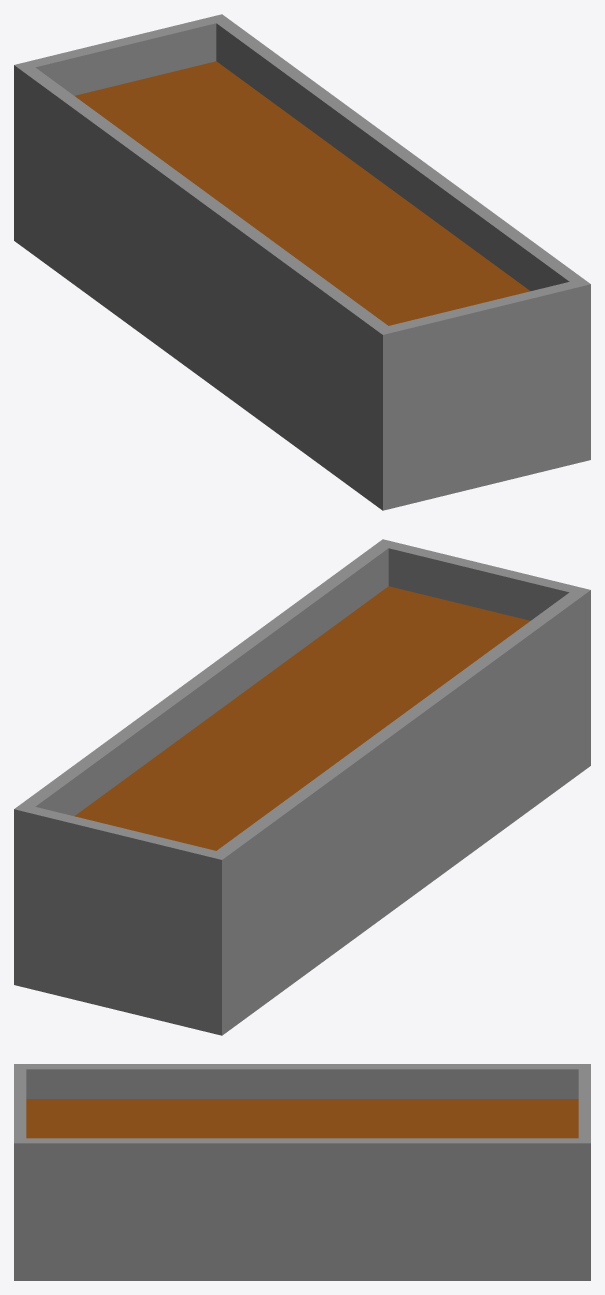
File: floreira.FBX
3 views of the same model, one above another, from view 1: azimuth 30°, elevation 25°; view 2: azimuth 150°, elevation 25°; view 3: azimuth 270°, elevation 25° (orthographic). The views are drawn at different scales.
Visible parts, largest first — view 1: Box073; view 2: Box073; view 3: Box073.
Boxes of the visible parts, x1,y1,x2,y2 form: Box073: (14,14,590,510); Box073: (14,539,590,1035); Box073: (14,1064,590,1280).
Bounding box in the file's own units: 29.67 × 23.95 × 91.09.
